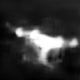plane: (12, 25, 80, 70)
